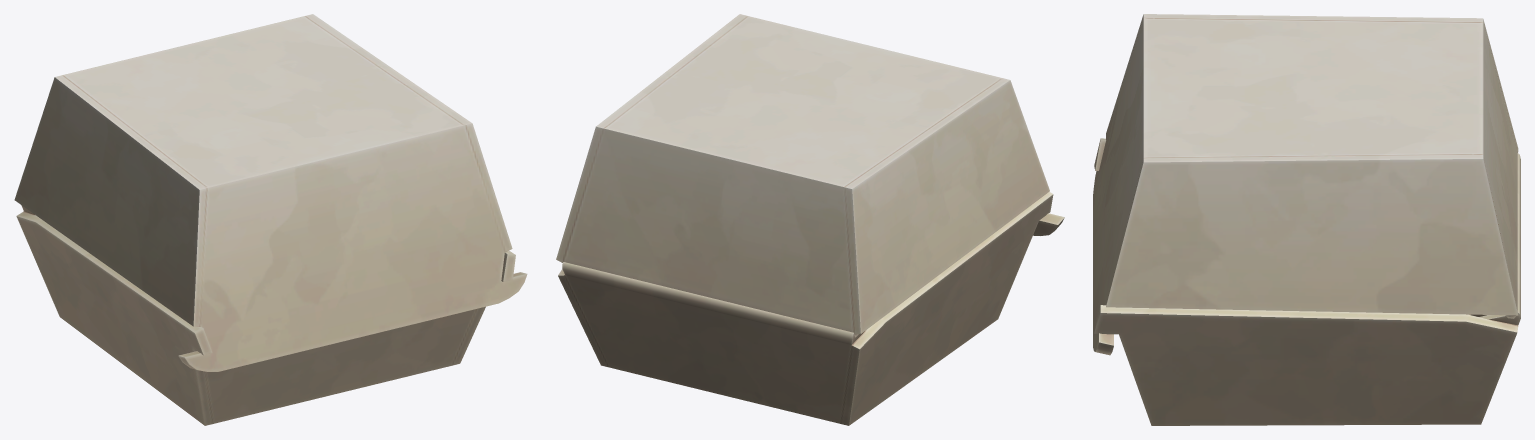
File: SM_BurgerBoxClosed.glb
3 views of the same model, side by side, from view 1: azimuth 30°, elevation 25°; view 2: azimuth 150°, elevation 25°; view 3: azimuth 270°, elevation 25° (orthographic). The views are drawn at different scales.
Parts seen in each view (by area): view 1: SM_BurgerBoxClosed; view 2: SM_BurgerBoxClosed; view 3: SM_BurgerBoxClosed.
Part boxes in pixels (left/top/right/bottom): SM_BurgerBoxClosed: left=14, top=14, right=527, bottom=425; SM_BurgerBoxClosed: left=556, top=14, right=1064, bottom=425; SM_BurgerBoxClosed: left=1093, top=14, right=1520, bottom=425.
Bounding box in the file's own units: 0.2472 × 0.1658 × 0.2397.
Materials: 1 (1 with a texture image).
